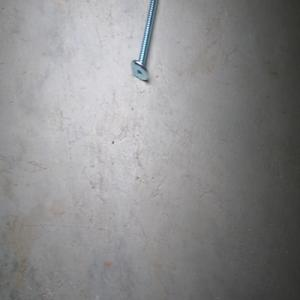Bolt: (130, 0, 158, 81)
